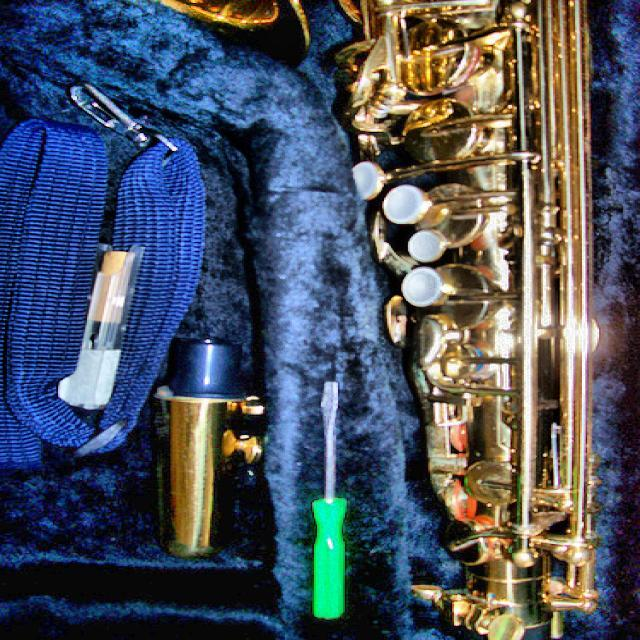screwdriver: (313, 382, 347, 618)
